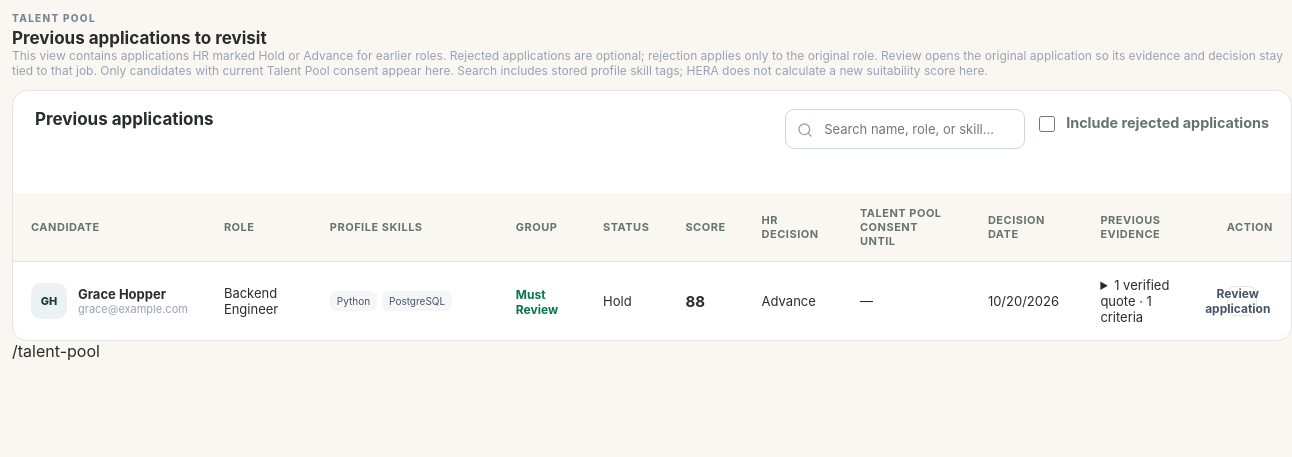
Test case: TalentPoolList (RankedCandidateList integration) › requests rejected applications only after the explicit filter is enabled
Expected: the text "Grace Hopper" is shown, [78,286,166,302]
Click the checkbox labelled "Include rejected applications" at (1047,124), box [1039,116,1055,132]
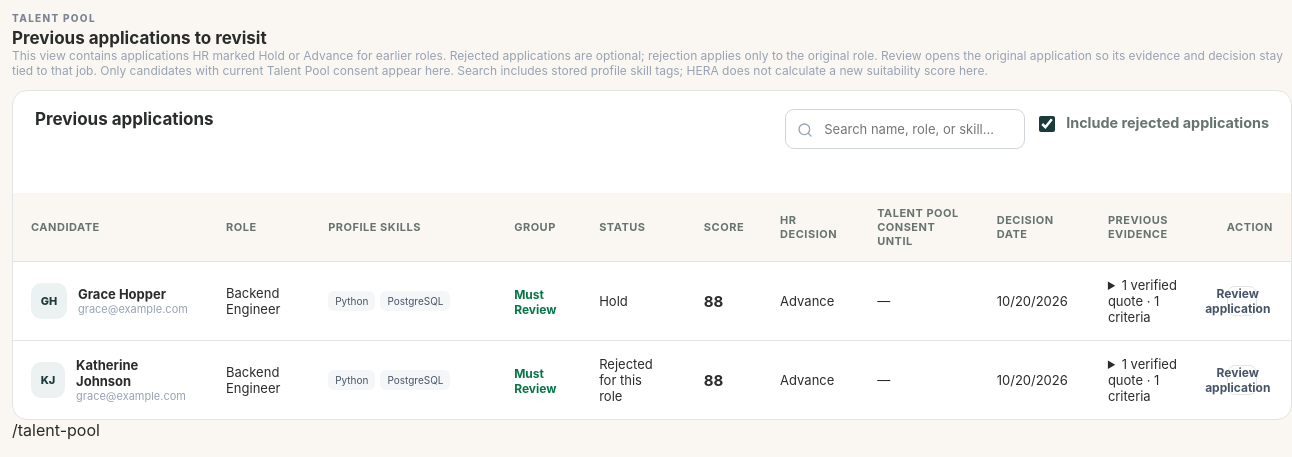
Result: the text "Katherine Johnson" is shown at [76,357,138,389]
Result: the text "Rejected for this role" is shown at [581,340,686,419]
